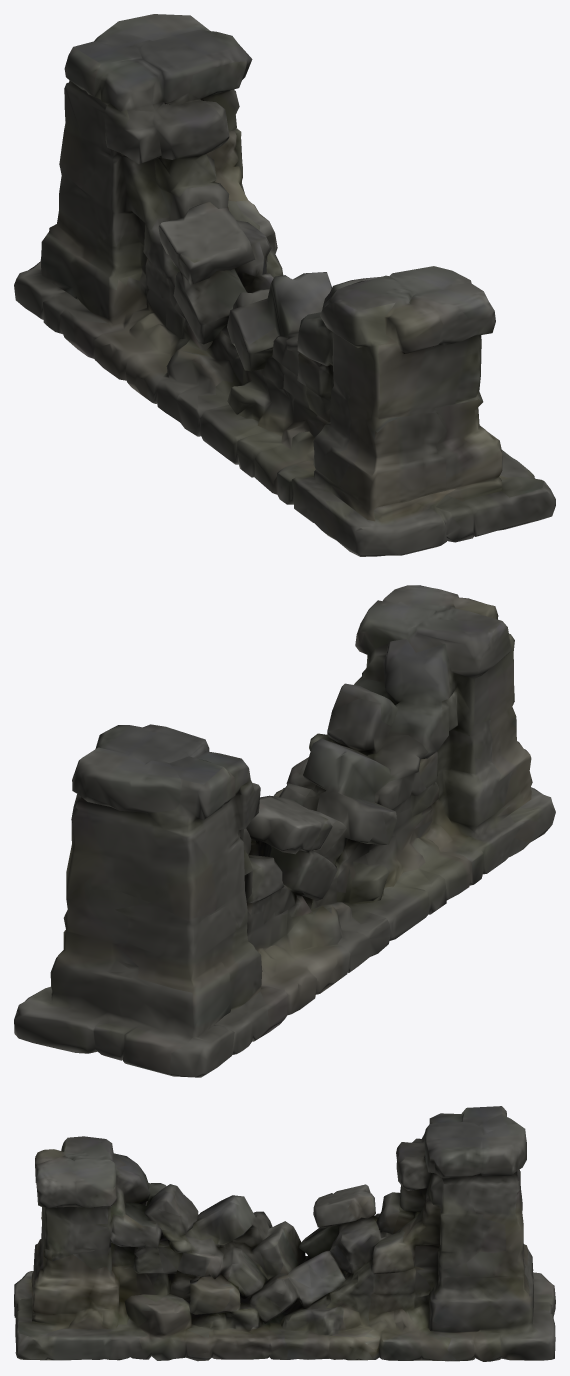
Rendered from masonry-barricade.glb.
3 renders of one model, top to bottom at view 1: azimuth 30°, elevation 25°; view 2: azimuth 150°, elevation 25°; view 3: azimuth 270°, elevation 25°, orthographic. The views are drawn at different scales.
Visible parts, largest first — view 1: tripo_node_fc071b30-27c1-4a2b-a0ee-2be70571c509; view 2: tripo_node_fc071b30-27c1-4a2b-a0ee-2be70571c509; view 3: tripo_node_fc071b30-27c1-4a2b-a0ee-2be70571c509.
Boxes of the visible parts, <box> form: tripo_node_fc071b30-27c1-4a2b-a0ee-2be70571c509: <box>14,14,555,556</box>; tripo_node_fc071b30-27c1-4a2b-a0ee-2be70571c509: <box>14,585,555,1077</box>; tripo_node_fc071b30-27c1-4a2b-a0ee-2be70571c509: <box>14,1106,555,1361</box>.
Bounding box in the file's own units: 0.3077 × 0.4068 × 1.
1 material, 1 textured.
